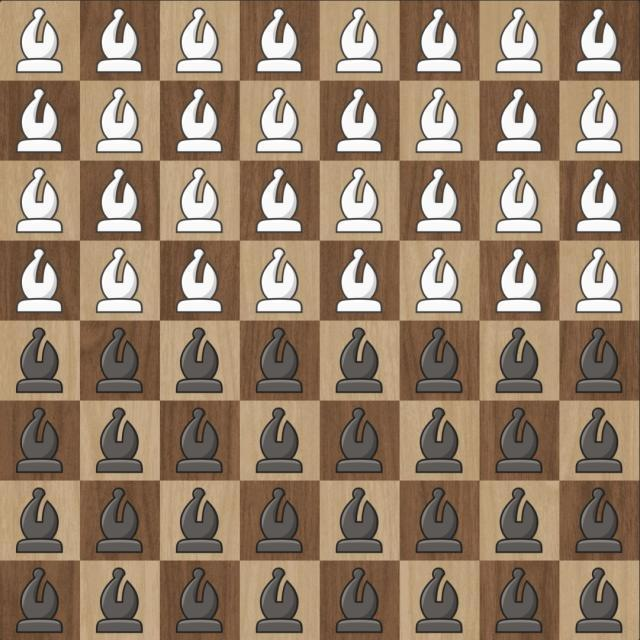black-bishop: (416, 328, 463, 394), (176, 327, 223, 393), (96, 407, 143, 473), (176, 407, 223, 473), (336, 407, 383, 473), (416, 407, 463, 473), (496, 407, 543, 473), (576, 487, 623, 553), (496, 488, 543, 554), (416, 487, 463, 553), (336, 487, 383, 553), (256, 487, 303, 553), (176, 488, 223, 554), (96, 488, 143, 554), (16, 488, 63, 554), (16, 567, 63, 633), (96, 567, 143, 633), (176, 567, 223, 633), (256, 568, 303, 634), (336, 568, 383, 634), (416, 567, 463, 633), (496, 568, 543, 634), (576, 568, 623, 634), (576, 328, 623, 393), (496, 328, 543, 393), (336, 328, 383, 393), (256, 328, 303, 393), (96, 328, 143, 393), (16, 328, 63, 393), (16, 408, 63, 473), (255, 408, 302, 473), (575, 408, 622, 473)
white-bishop: (16, 7, 63, 73), (96, 8, 143, 74), (16, 88, 63, 154), (96, 88, 143, 154), (176, 87, 223, 153), (176, 8, 223, 74), (16, 167, 63, 233), (96, 167, 143, 233), (176, 167, 223, 233), (96, 247, 143, 313), (256, 8, 303, 74), (336, 8, 383, 74), (416, 8, 463, 74), (496, 8, 543, 74), (256, 87, 303, 153), (336, 88, 383, 154), (416, 88, 463, 154), (496, 87, 543, 153), (416, 247, 463, 313), (576, 8, 623, 74), (576, 88, 623, 154), (576, 167, 623, 233), (16, 248, 63, 313), (176, 248, 223, 313), (257, 168, 304, 233), (336, 168, 383, 233), (416, 168, 463, 233), (496, 168, 543, 233), (496, 248, 543, 313), (336, 249, 383, 314), (256, 248, 303, 313), (576, 248, 623, 313)
